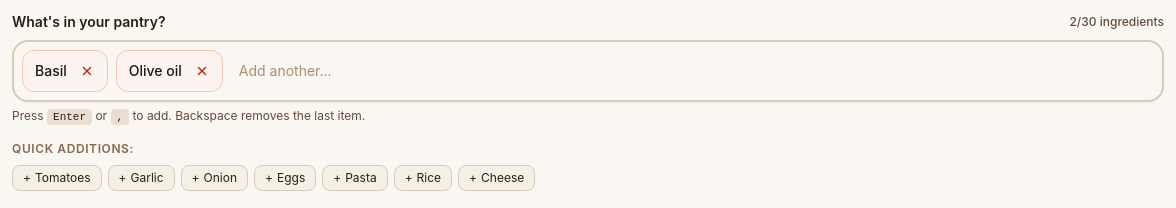
Test: IngredientChips Component Tests › removes an ingredient when clicking the remove button
Expected: the text "Basil" is shown, [35,61,67,81]
Click the button named "Remove Basil": [87, 71] box [73,57,101,85]
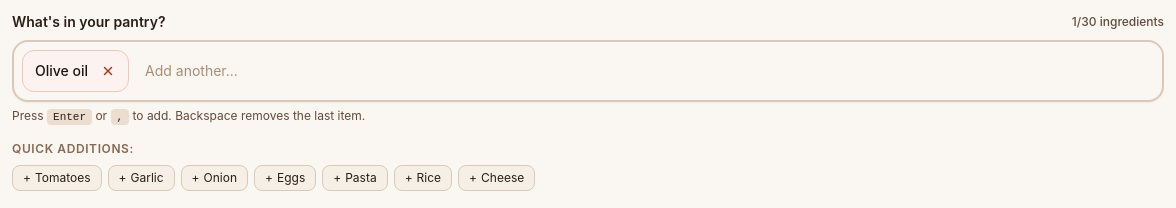
Expected: the text "Olive oil" is shown, [35,61,88,81]
Expected: the text "Basil" is gone
